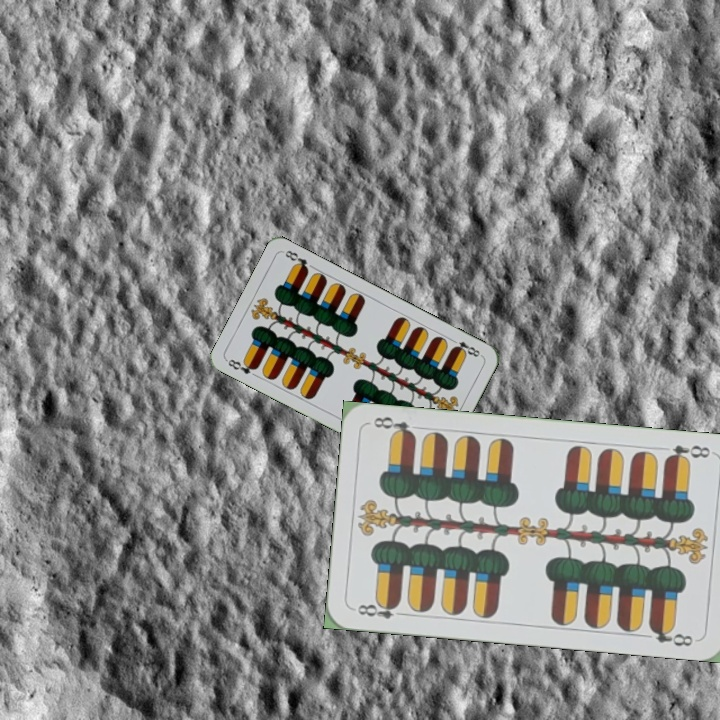E8: (353, 597, 409, 621), (661, 441, 713, 465), (447, 334, 484, 359), (223, 355, 260, 377)
